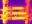Hotspot: (0, 0, 9, 23), (12, 6, 24, 10), (12, 12, 26, 15), (12, 17, 26, 20)
